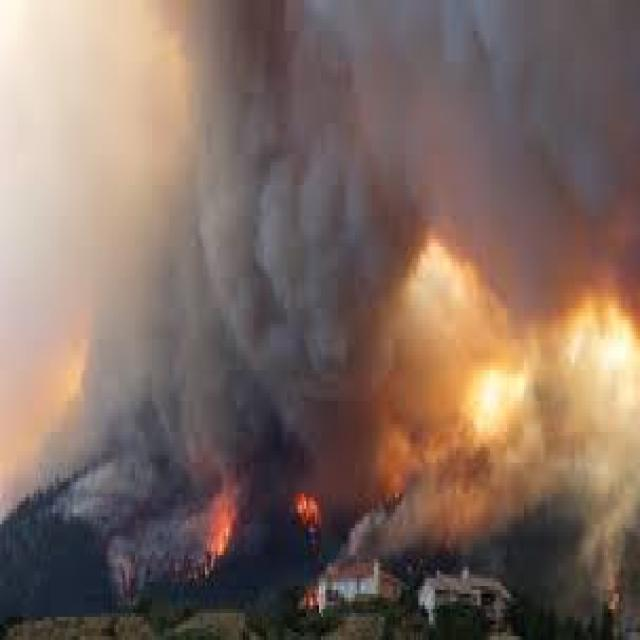Fire: (377, 429, 420, 495)
Smoke: (104, 22, 640, 278), (243, 31, 577, 186)
